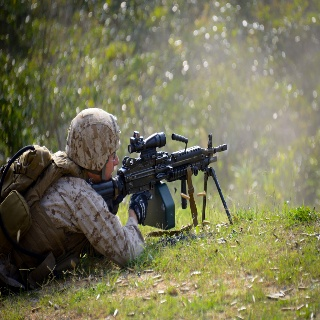rifle: (89, 129, 236, 225)
